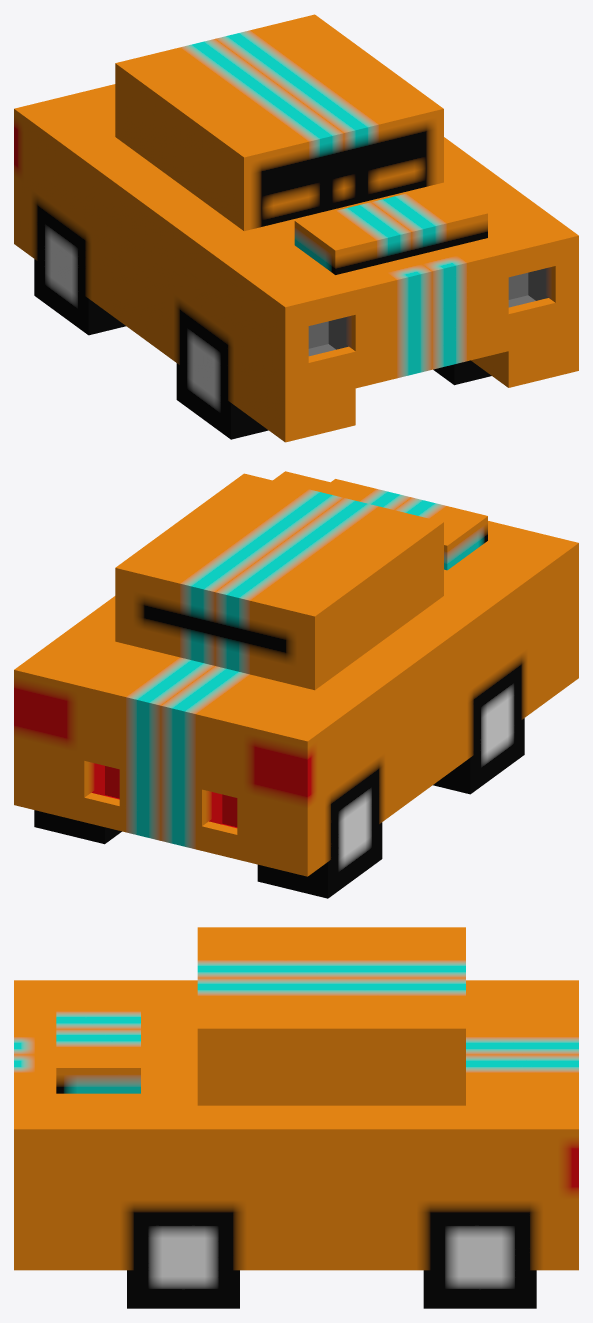
The model's file is Car_3.fbx.
3 views of the same model, one above another, from view 1: azimuth 30°, elevation 25°; view 2: azimuth 150°, elevation 25°; view 3: azimuth 270°, elevation 25° (orthographic). The views are drawn at different scales.
Visible parts, largest first — view 1: Car; view 2: Car; view 3: Car.
Boxes of the visible parts, <box> form: Car: <box>14,14,578,442</box>; Car: <box>14,471,578,898</box>; Car: <box>14,927,578,1308</box>.
Size of the model in its own units: 25 by 20 by 40.
1 material, 1 textured.
